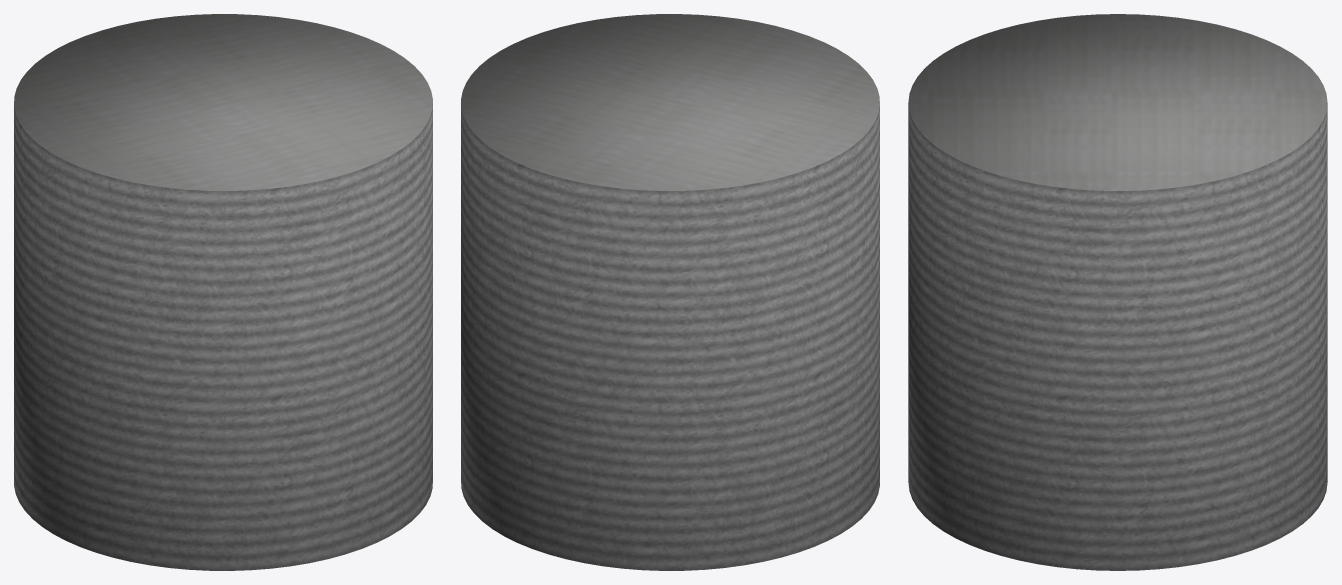
Rendered from water-tank-corrigated-3x2-cbj_LOD00.gltf.
3 views of the same model, side by side, from view 1: azimuth 30°, elevation 25°; view 2: azimuth 150°, elevation 25°; view 3: azimuth 270°, elevation 25° (orthographic).
Parts seen in each view (by area): view 1: Cylinder; view 2: Cylinder; view 3: Cylinder.
Part boxes in pixels (box(x1,y1,x2,y2)): Cylinder: box(14, 14, 432, 570); Cylinder: box(461, 14, 879, 570); Cylinder: box(908, 14, 1327, 570).
Size of the model in its own units: 3.2 by 3.2 by 3.2.
